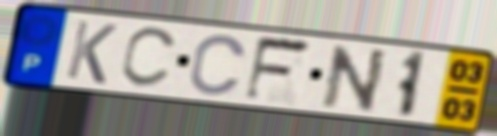1: (398, 48, 430, 122)
C: (117, 25, 182, 91), (186, 32, 250, 98)
F: (241, 35, 315, 105)
K: (62, 17, 120, 87)
N: (319, 43, 391, 115)
